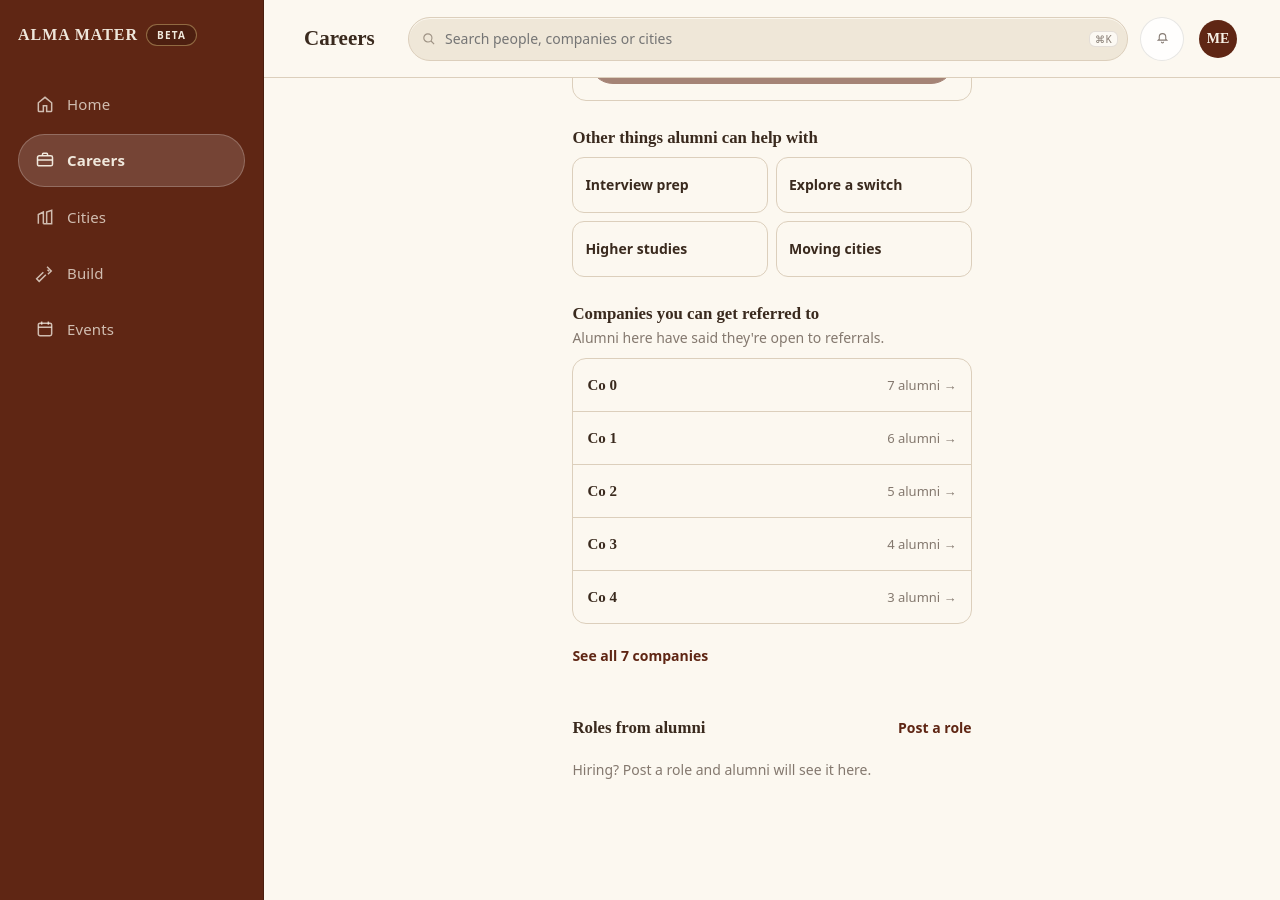
Test: Careers page › companies you can get referred to: five, then See all; each opens its company screen
(page scrolled)
Expected: the link "Co 0 7 alumni →" is shown, x1=587 y1=376 x2=957 y2=394
Expected: the link "Co 6" is not shown
Click the button "See all 7 companies" at (640, 656), box x1=572 y1=634 x2=708 y2=678
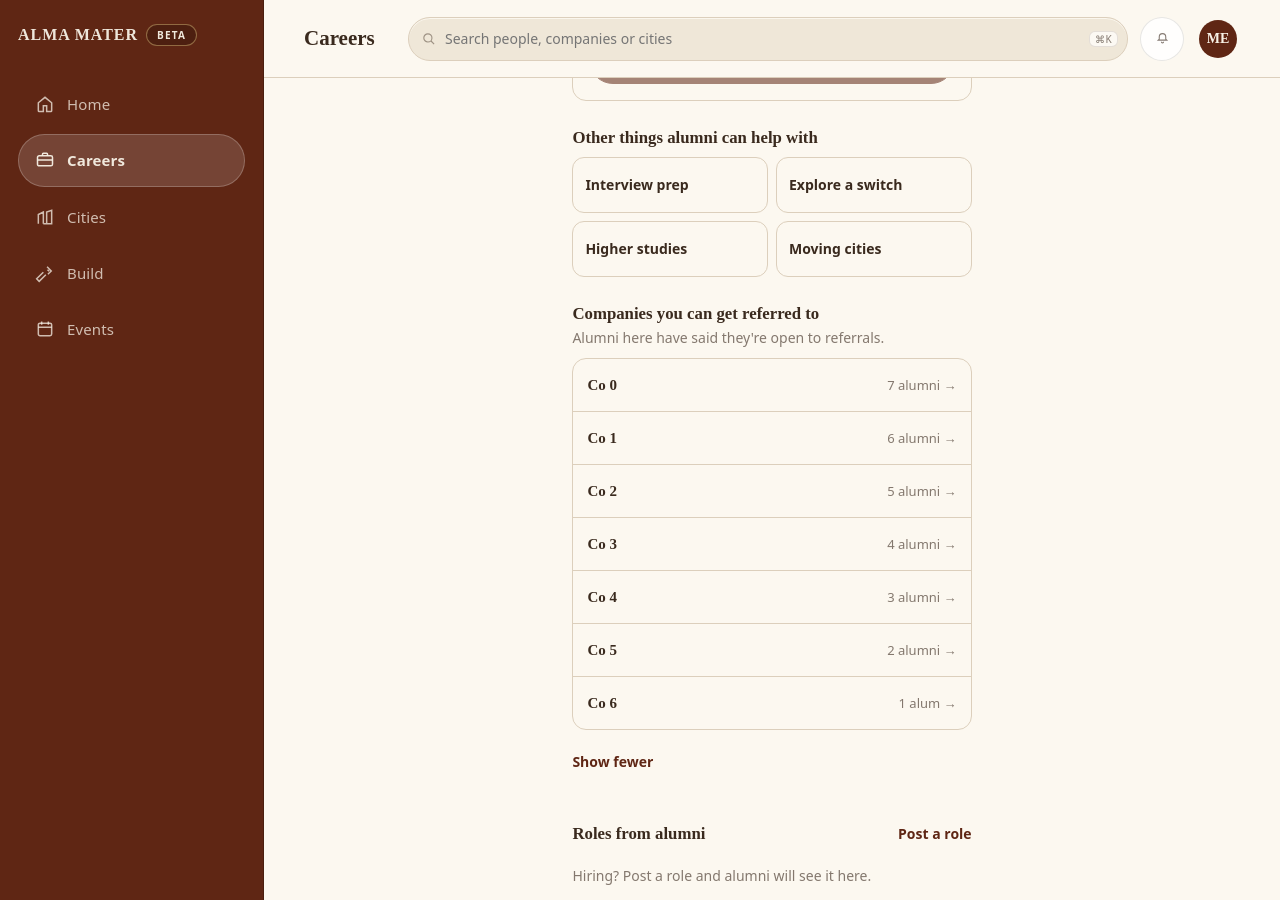
Now the link "Co 6 1 alum →" is shown, box x1=587 y1=694 x2=957 y2=712
